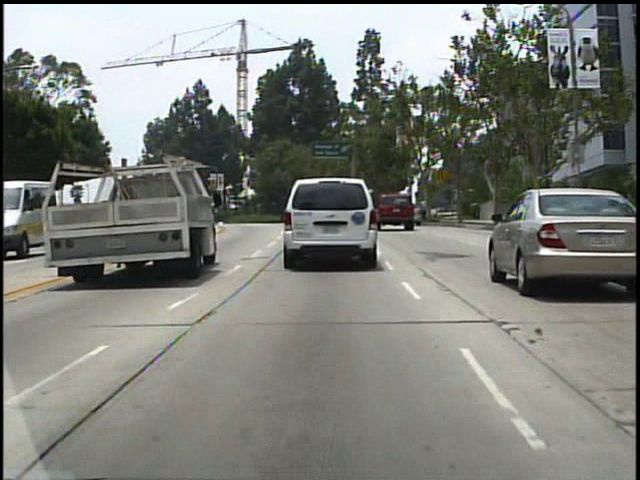person: (417, 195, 429, 224)
